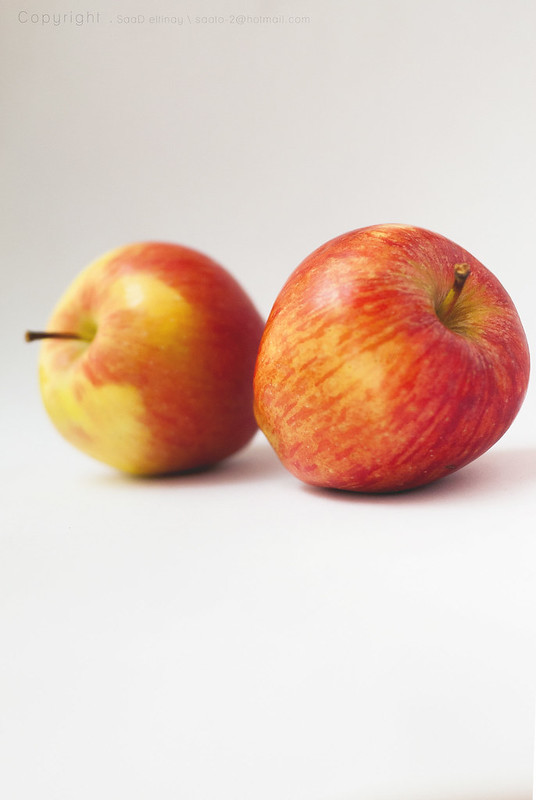apple: (246, 217, 531, 513), (24, 236, 278, 485)
